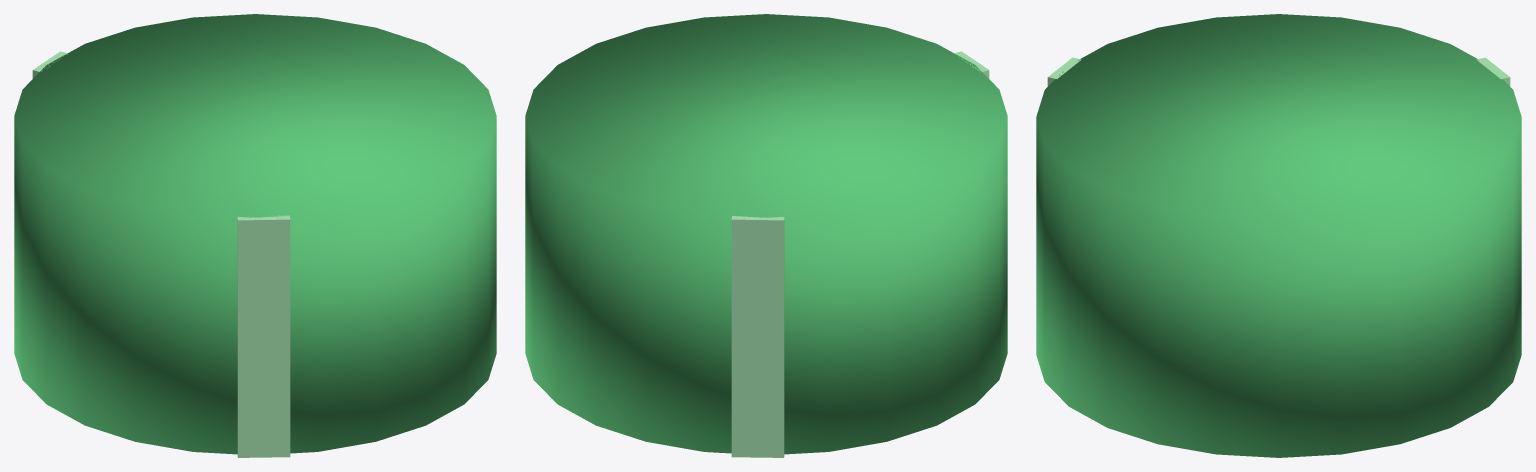
Rendered from pipe_body.gltf.
3 views of the same model, side by side, from view 1: azimuth 30°, elevation 25°; view 2: azimuth 150°, elevation 25°; view 3: azimuth 270°, elevation 25° (orthographic).
Parts seen in each view (by area): view 1: pipe_body; view 2: pipe_body; view 3: pipe_body.
Boxes of the visible parts, x1,y1,x2,y2 form: pipe_body: [14, 14, 496, 457]; pipe_body: [525, 14, 1007, 457]; pipe_body: [1036, 14, 1521, 457].
Size of the model in its own units: 1.84 by 1 by 1.84.
